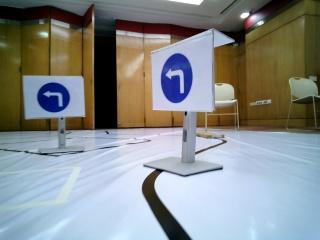left: (153, 41, 209, 114), (24, 77, 86, 119)
